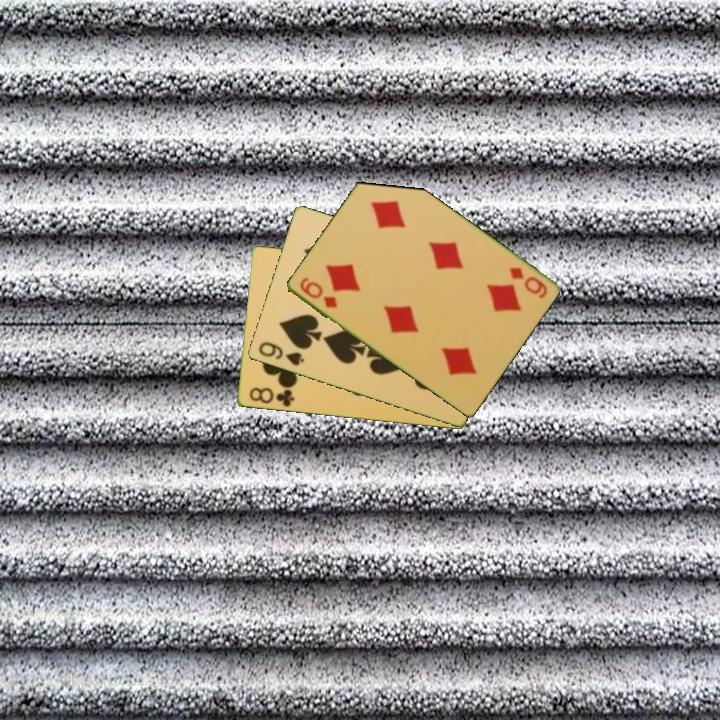6d: (505, 263, 550, 301), (296, 274, 340, 311)
8c: (245, 384, 297, 410)
9s: (255, 338, 307, 369)
